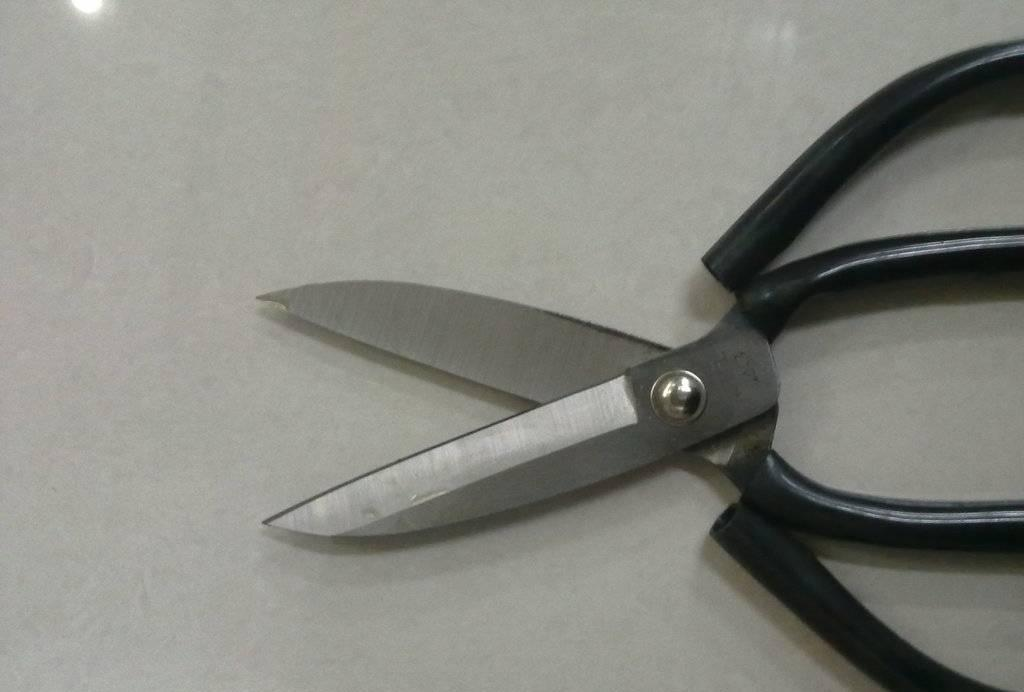scissor: (198, 112, 996, 593)
